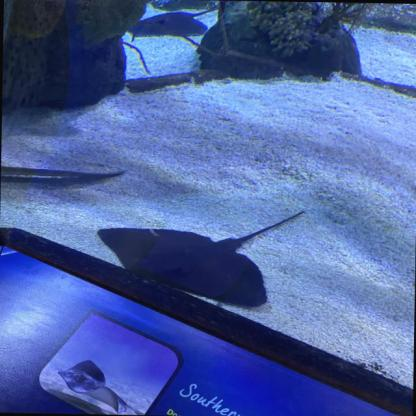stingray: (98, 228, 269, 308), (128, 10, 207, 38)
